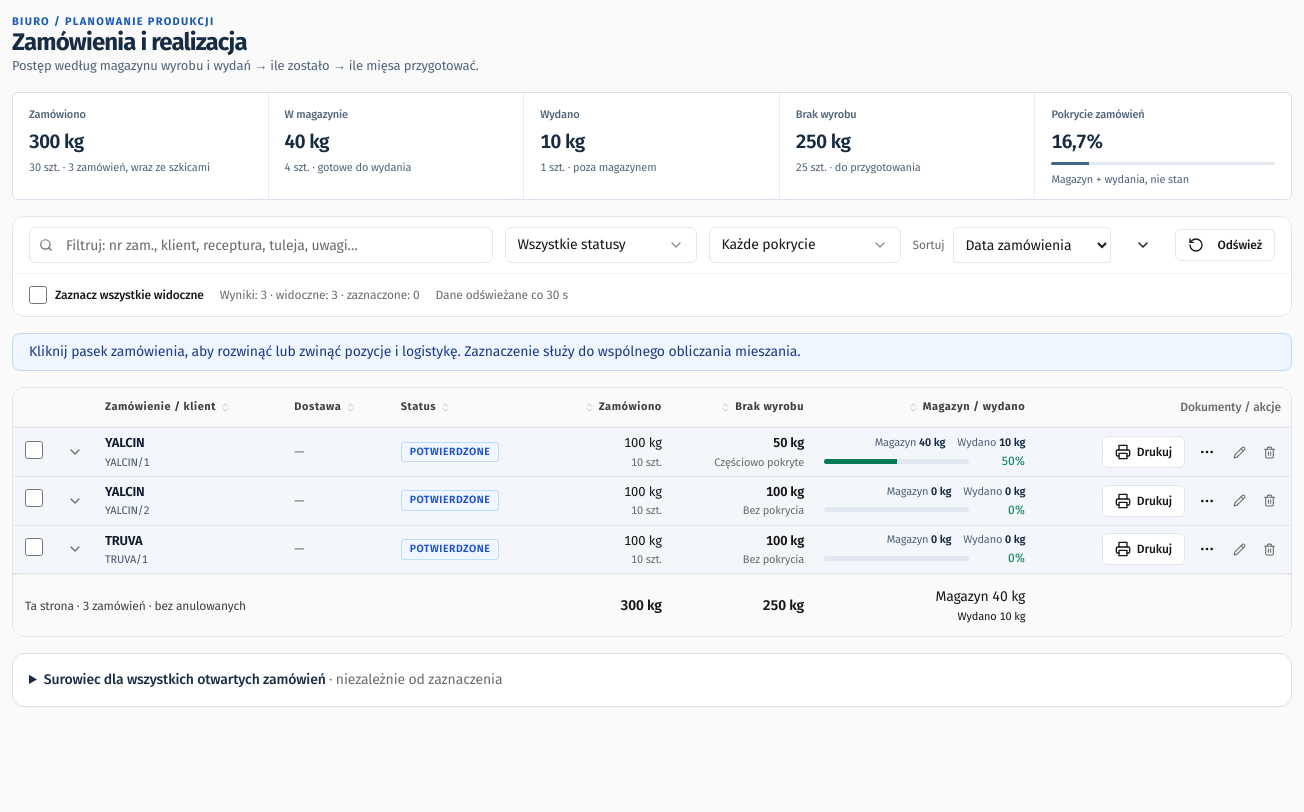
ClientOrdersPage — zaznaczanie i planowanie › odświeża dane w tle bez utraty zaznaczeń i nie ponawia równoległego żądania
Click the checkbox named "Zaznacz YALCIN/1": (34, 450) [25, 440, 43, 458]
Wait 60000 ms
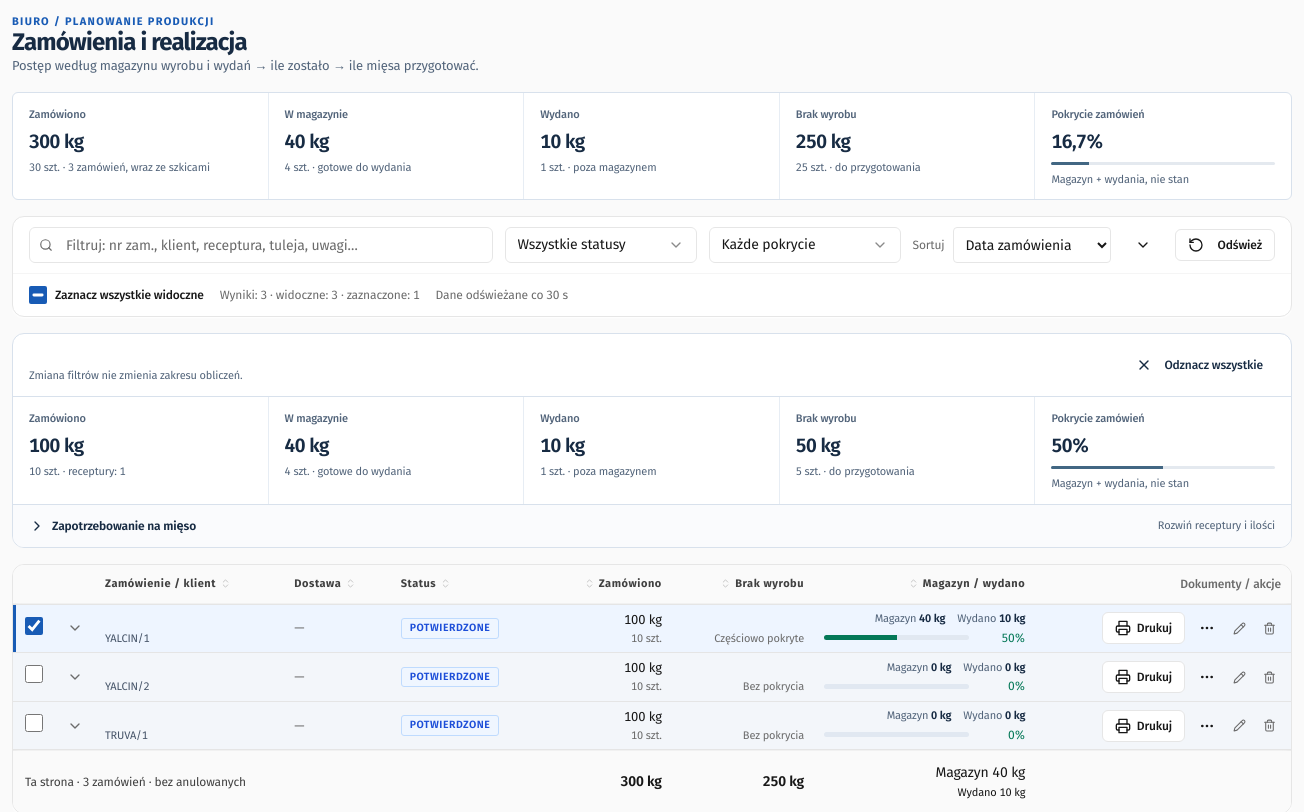
Now the element "Podsumowanie zaznaczonych zamówień" shows "(1)", box [12, 333, 1292, 548]
